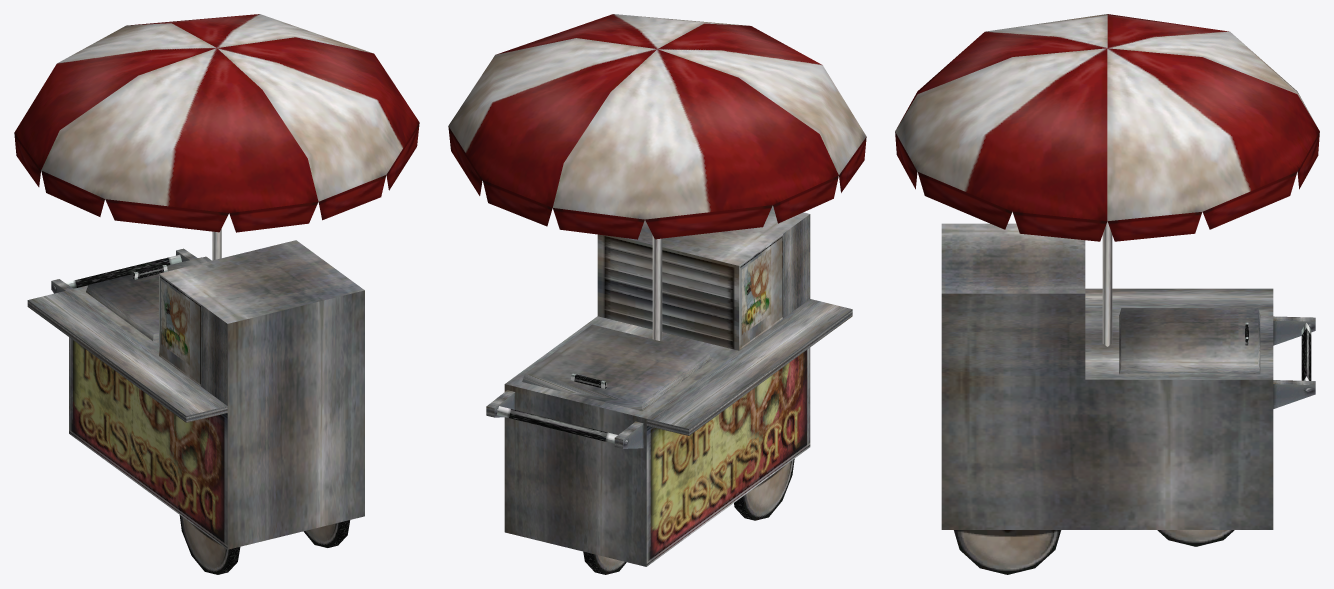
The model's file is pretzel_cart.fbx.
3 views of the same model, side by side, from view 1: azimuth 30°, elevation 25°; view 2: azimuth 150°, elevation 25°; view 3: azimuth 270°, elevation 25° (orthographic). The views are drawn at different scales.
Parts seen in each view (by area): view 1: mesh_0; view 2: mesh_0; view 3: mesh_0.
Part boxes in pixels (x1,y1,x2,y2): mesh_0: (14, 14, 419, 574); mesh_0: (448, 14, 866, 574); mesh_0: (895, 14, 1319, 574).
Bounding box in the file's own units: 192 × 247 × 192.
1 material, 1 textured.
